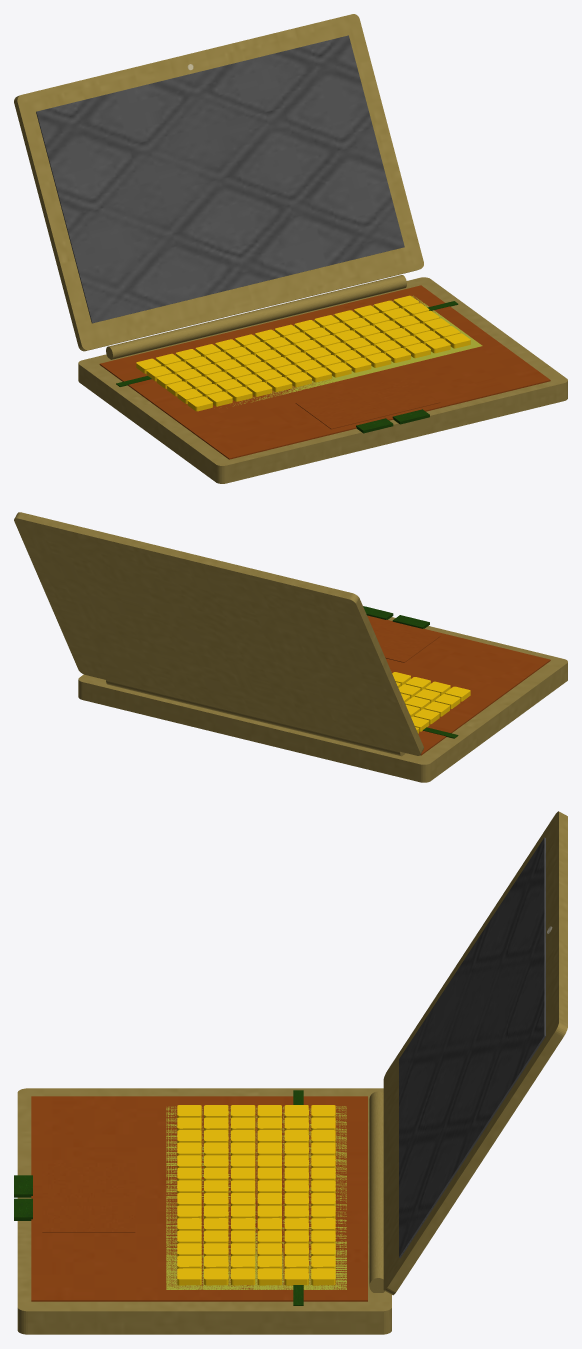
The model's file is Technology_Laptop__0041.glb.
The picture shows the model from 3 angles, top to bottom: view 1: azimuth 30°, elevation 25°; view 2: azimuth 150°, elevation 25°; view 3: azimuth 270°, elevation 25°; orthographic projection. The views are drawn at different scales.
Visible parts, largest first — view 1: screen_lid::shell_family__thin_aluminum__display_panel, screen_lid::shell_family__thin_aluminum__lid_shell, base_chassis::shell_family__thin_aluminum__palm_deck_skin, base_chassis::shell_family__thin_aluminum__lower_shell, base_chassis::hinge_style__full_width_barrel__base_barrel, pointing_surface::pointing_system__dual_mouse_buttons__pad, base_chassis::shell_family__thin_aluminum__keyboard_well_bez; view 2: screen_lid::shell_family__thin_aluminum__lid_shell, base_chassis::shell_family__thin_aluminum__lower_shell, base_chassis::shell_family__thin_aluminum__palm_deck_skin, pointing_surface::pointing_system__dual_mouse_buttons__pad, base_chassis::hinge_style__full_width_barrel__base_barrel; view 3: base_chassis::shell_family__thin_aluminum__palm_deck_skin, screen_lid::shell_family__thin_aluminum__display_panel, base_chassis::shell_family__thin_aluminum__lower_shell, screen_lid::shell_family__thin_aluminum__lid_shell, pointing_surface::pointing_system__dual_mouse_buttons__pad, base_chassis::shell_family__thin_aluminum__keyboard_well_bez, base_chassis::hinge_style__full_width_barrel__base_barrel.
Boxes of the visible parts, x1,y1,x2,y2 form: screen_lid::shell_family__thin_aluminum__display_panel: (36, 35, 404, 323); screen_lid::shell_family__thin_aluminum__lid_shell: (14, 14, 423, 351); base_chassis::shell_family__thin_aluminum__palm_deck_skin: (99, 285, 550, 459); base_chassis::shell_family__thin_aluminum__lower_shell: (78, 277, 567, 483); base_chassis::hinge_style__full_width_barrel__base_barrel: (106, 275, 406, 359); pointing_surface::pointing_system__dual_mouse_buttons__pad: (295, 376, 440, 429); base_chassis::shell_family__thin_aluminum__keyboard_well_bez: (233, 295, 482, 406); screen_lid::shell_family__thin_aluminum__lid_shell: (14, 512, 423, 755); base_chassis::shell_family__thin_aluminum__lower_shell: (78, 617, 567, 782); base_chassis::shell_family__thin_aluminum__palm_deck_skin: (367, 615, 550, 755); pointing_surface::pointing_system__dual_mouse_buttons__pad: (368, 619, 440, 662); base_chassis::hinge_style__full_width_barrel__base_barrel: (106, 680, 405, 756); base_chassis::shell_family__thin_aluminum__palm_deck_skin: (31, 1096, 367, 1301); screen_lid::shell_family__thin_aluminum__display_panel: (399, 837, 545, 1258); base_chassis::shell_family__thin_aluminum__lower_shell: (17, 1088, 391, 1334); screen_lid::shell_family__thin_aluminum__lid_shell: (383, 811, 567, 1295); pointing_surface::pointing_system__dual_mouse_buttons__pad: (42, 1163, 135, 1232); base_chassis::shell_family__thin_aluminum__keyboard_well_bez: (166, 1106, 346, 1289); base_chassis::hinge_style__full_width_barrel__base_barrel: (369, 1091, 384, 1292).
Bounding box in the file's own units: 0.3066 × 0.1993 × 0.322.
Materials: 8 (7 with a texture image).
